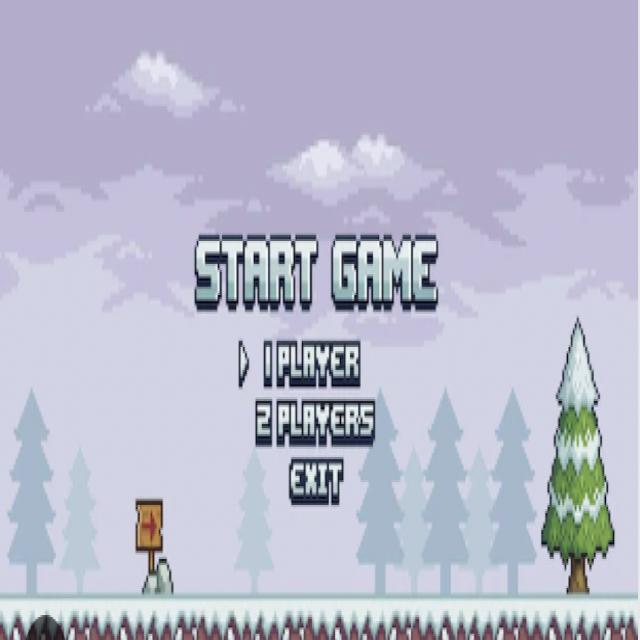Start-button: (193, 218, 449, 316)
